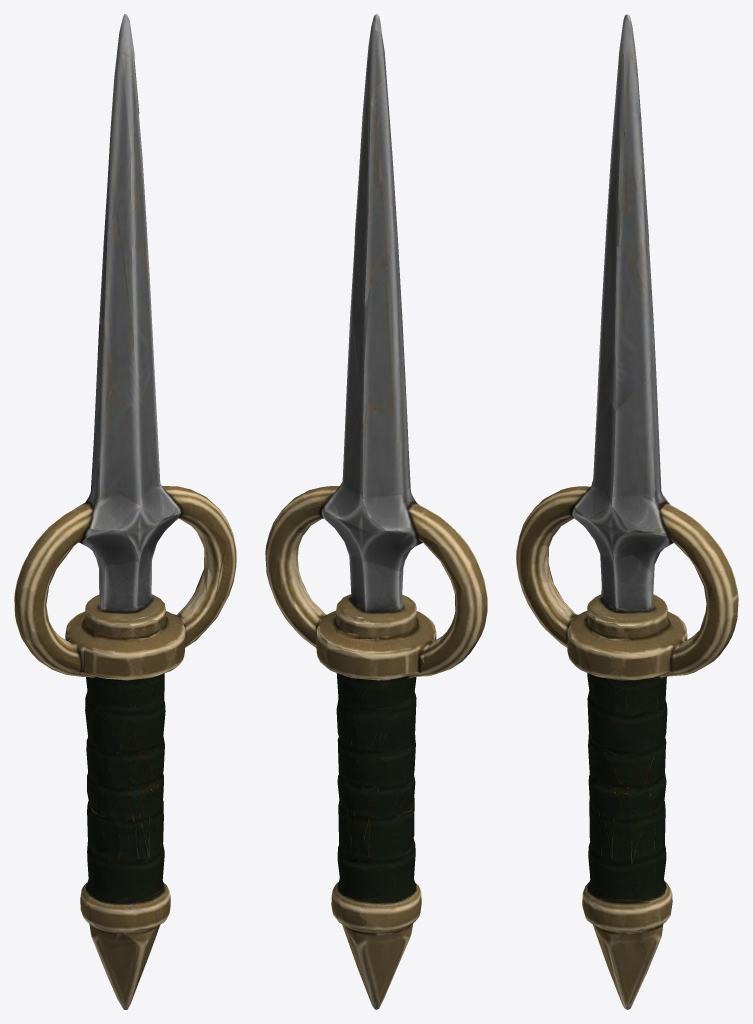
The model's file is needlepoint_stiletto.glb.
The picture shows the model from 3 angles, left to right: view 1: azimuth 30°, elevation 25°; view 2: azimuth 150°, elevation 25°; view 3: azimuth 330°, elevation 25°; orthographic projection.
Size of the model in its own units: 0.2957 by 1.29 by 0.1396.
1 material, 1 textured.
